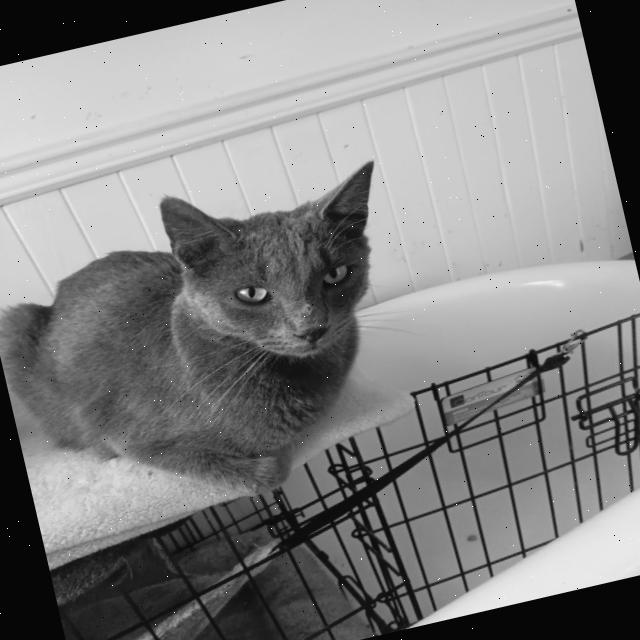russian_blue_cat: (140, 140, 416, 392)
